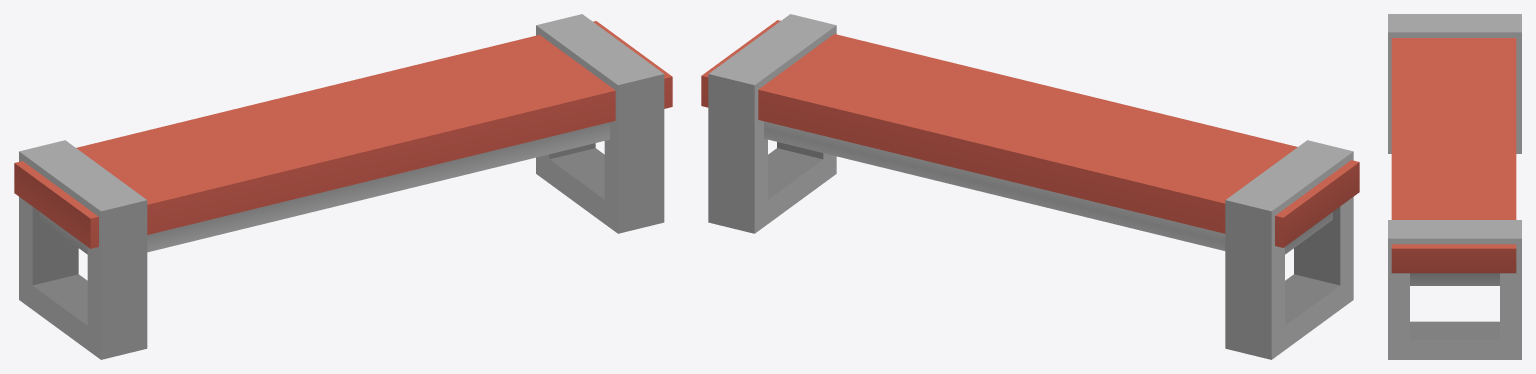
Rendered from Bench3.glb.
3 renders of one model, left to right at view 1: azimuth 30°, elevation 25°; view 2: azimuth 150°, elevation 25°; view 3: azimuth 270°, elevation 25°, orthographic. The views are drawn at different scales.
Visible parts, largest first — view 1: SI_Prop_Bench_03; view 2: SI_Prop_Bench_03; view 3: SI_Prop_Bench_03.
Part boxes in pixels (x1,y1,x2,y2): SI_Prop_Bench_03: (14, 14, 672, 359); SI_Prop_Bench_03: (701, 14, 1359, 359); SI_Prop_Bench_03: (1388, 14, 1521, 359).
Size of the model in its own units: 0.0441 by 0.0108 by 0.0108.
Materials: 1 (1 with a texture image).
